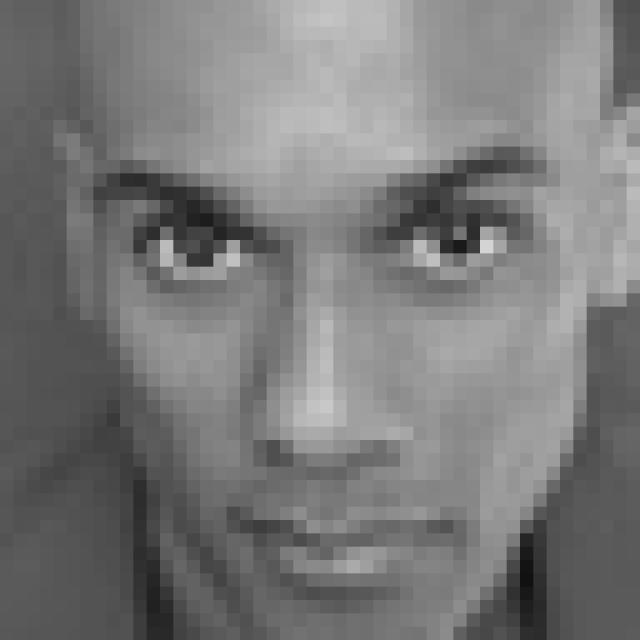neutral: (88, 123, 572, 607)
